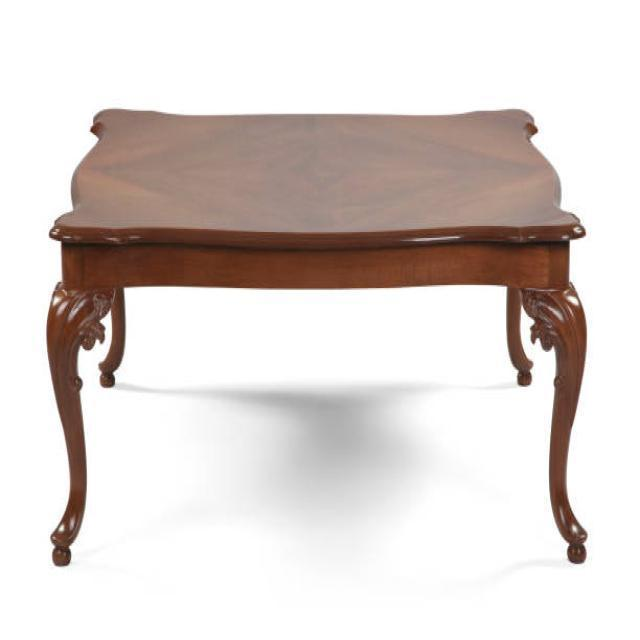table: (45, 104, 589, 568)
